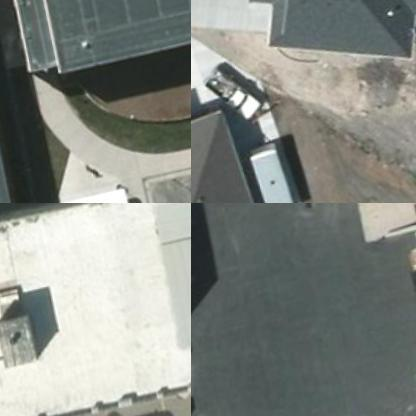car: (198, 57, 262, 131)
